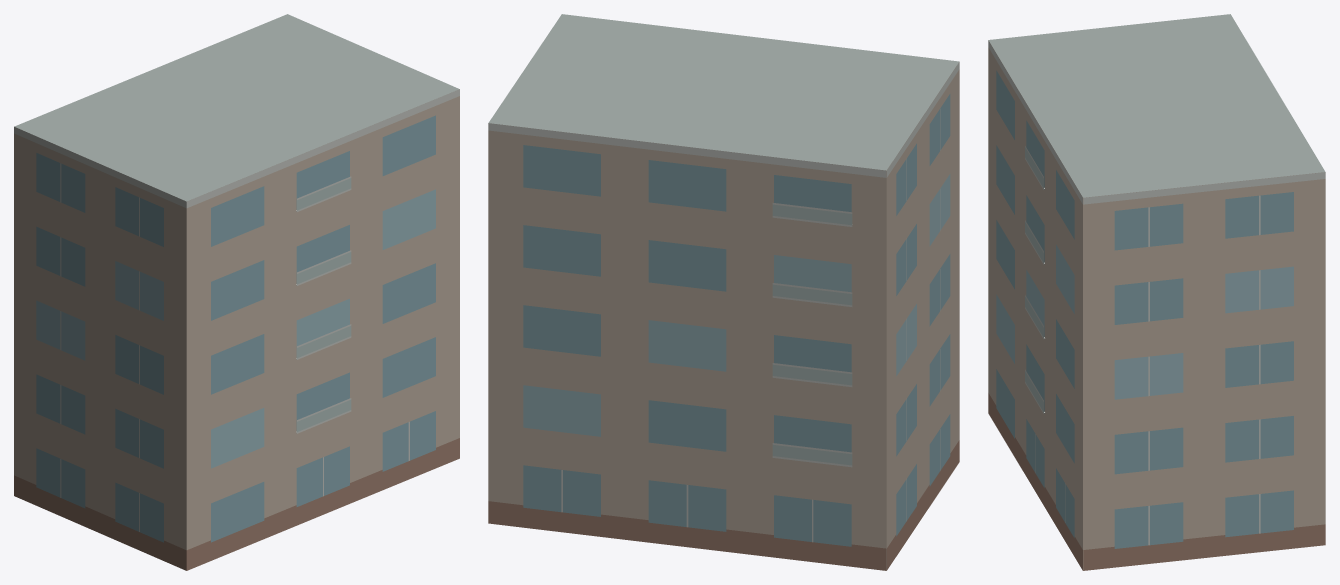
Rendered from survey-upis-32573475.glb.
3 views of the same model, side by side, from view 1: azimuth 30°, elevation 25°; view 2: azimuth 150°, elevation 25°; view 3: azimuth 270°, elevation 25° (orthographic). The views are drawn at different scales.
Visible parts, largest first — view 1: survey-upis-32573475.tmp; view 2: survey-upis-32573475.tmp; view 3: survey-upis-32573475.tmp.
Part boxes in pixels (<box>): survey-upis-32573475.tmp: <box>14,14,459,570</box>; survey-upis-32573475.tmp: <box>488,14,959,570</box>; survey-upis-32573475.tmp: <box>988,14,1325,570</box>.
Bounding box in the file's own units: 13.95 × 13.2 × 10.82.
